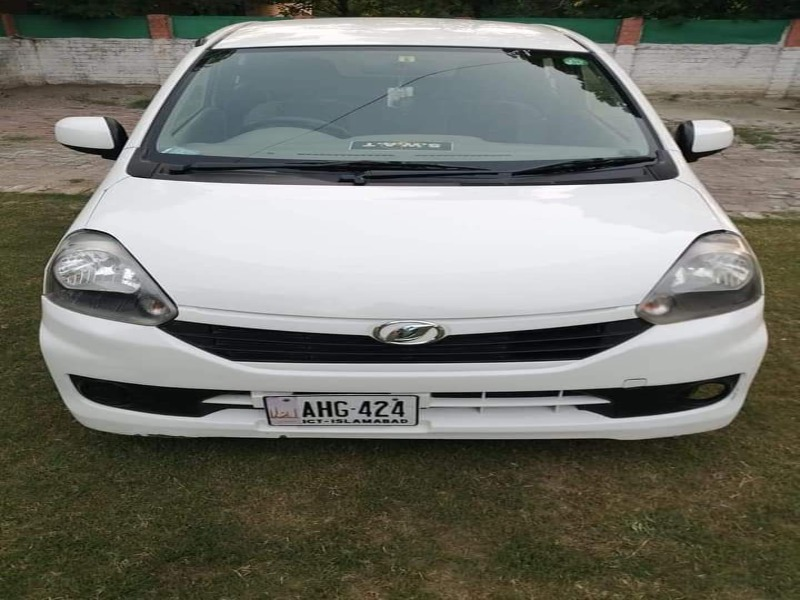License Plate: (260, 389, 422, 435)
